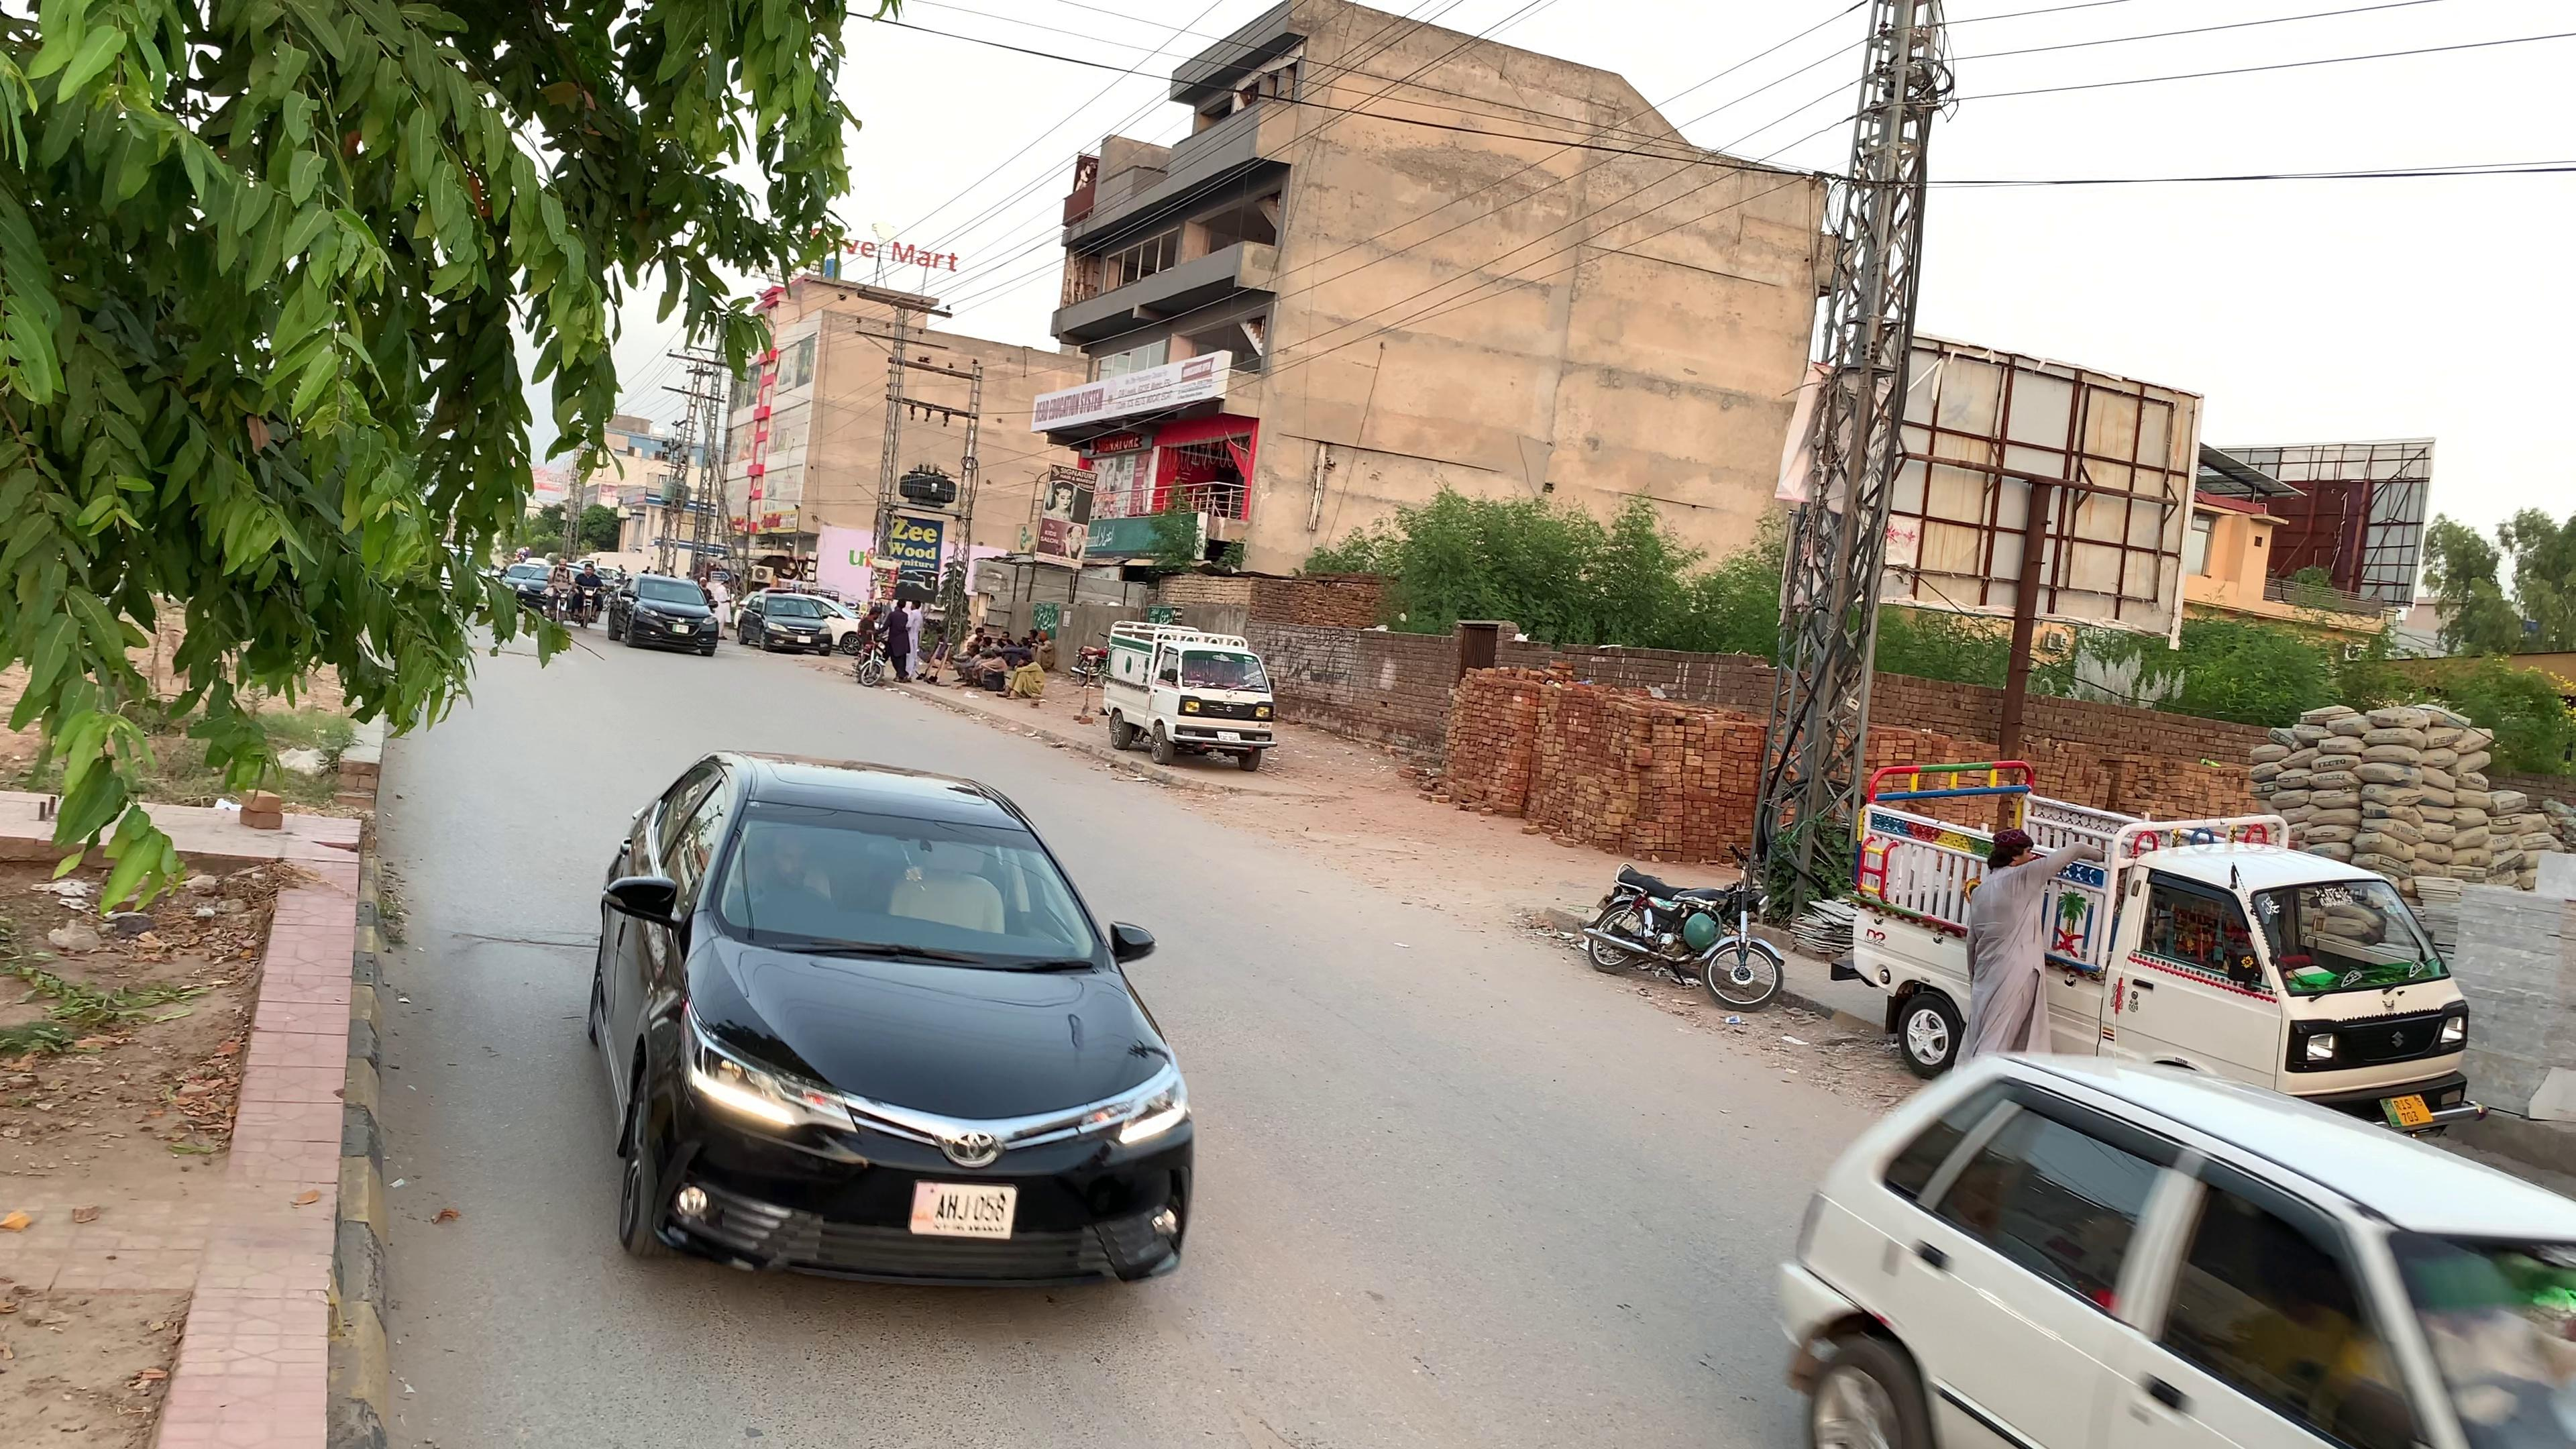windshield: (695, 791, 1118, 959)
